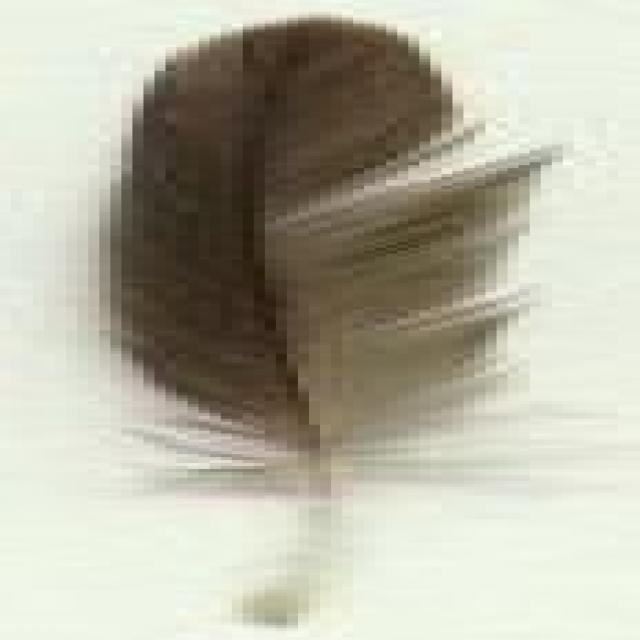feather: (70, 12, 558, 629)
